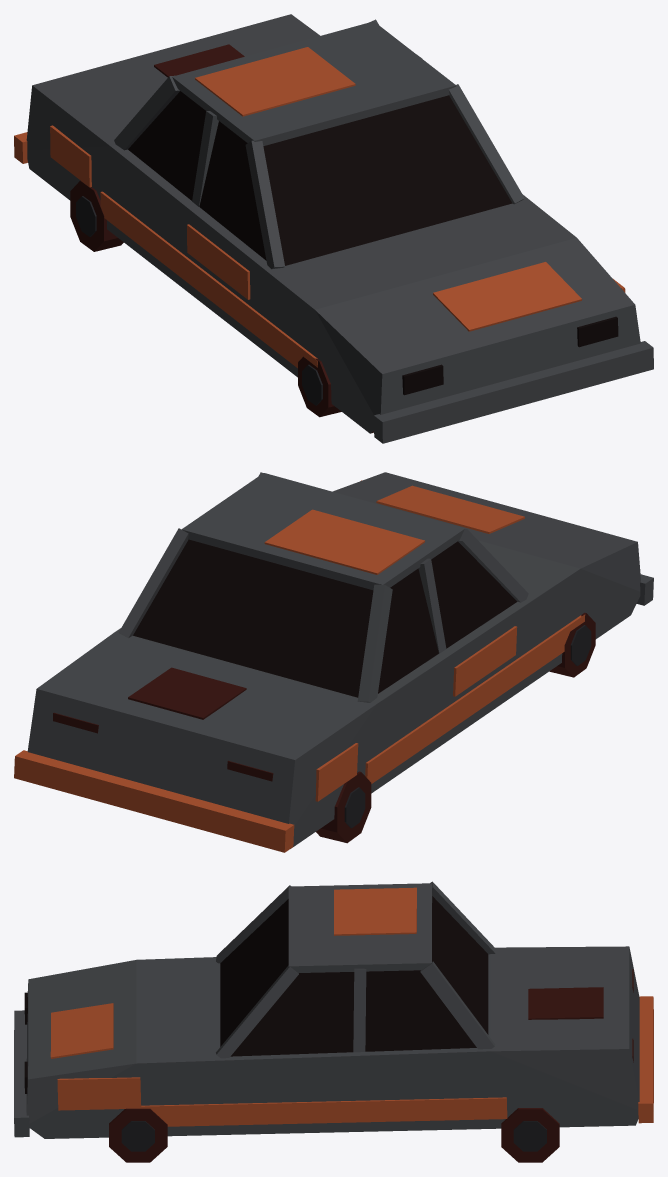
File: car_wreck.glb
The picture shows the model from 3 angles, top to bottom: view 1: azimuth 30°, elevation 25°; view 2: azimuth 150°, elevation 25°; view 3: azimuth 270°, elevation 25°; orthographic projection. The views are drawn at different scales.
Visible parts, largest first — view 1: car_wreck; view 2: car_wreck; view 3: car_wreck.
Part boxes in pixels (x1=…): car_wreck: x1=14, y1=14, x2=653, y2=443; car_wreck: x1=14, y1=472, x2=653, y2=852; car_wreck: x1=14, y1=881, x2=653, y2=1162.
Size of the model in its own units: 1.8 by 1.35 by 4.24.
